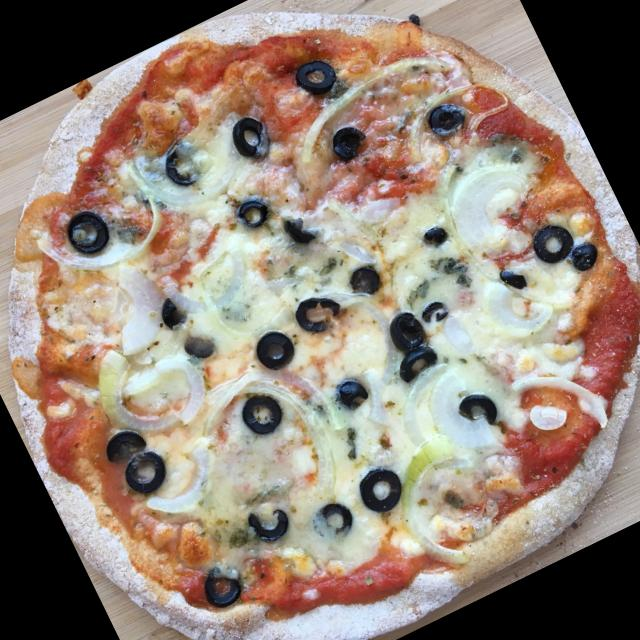black_olives: (232, 377, 298, 442), (158, 130, 222, 194), (248, 319, 309, 383), (112, 442, 174, 504), (223, 106, 282, 170), (350, 460, 410, 522), (387, 333, 448, 391), (54, 205, 112, 262), (307, 493, 363, 552), (381, 300, 435, 356), (526, 214, 579, 270), (288, 284, 342, 338), (418, 90, 474, 142), (100, 420, 158, 470), (241, 496, 295, 548), (290, 49, 342, 102), (198, 560, 248, 610), (453, 382, 502, 433), (344, 256, 388, 306), (327, 120, 373, 167), (230, 188, 276, 234), (561, 234, 603, 276), (332, 372, 372, 416), (420, 217, 461, 256), (280, 208, 319, 246), (492, 258, 529, 296), (180, 326, 214, 362), (155, 296, 188, 330)
pizza: (6, 13, 640, 640)
